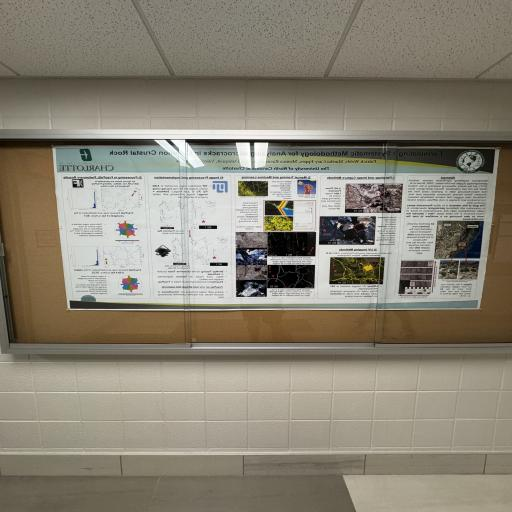poster board: (0, 132, 512, 356)
